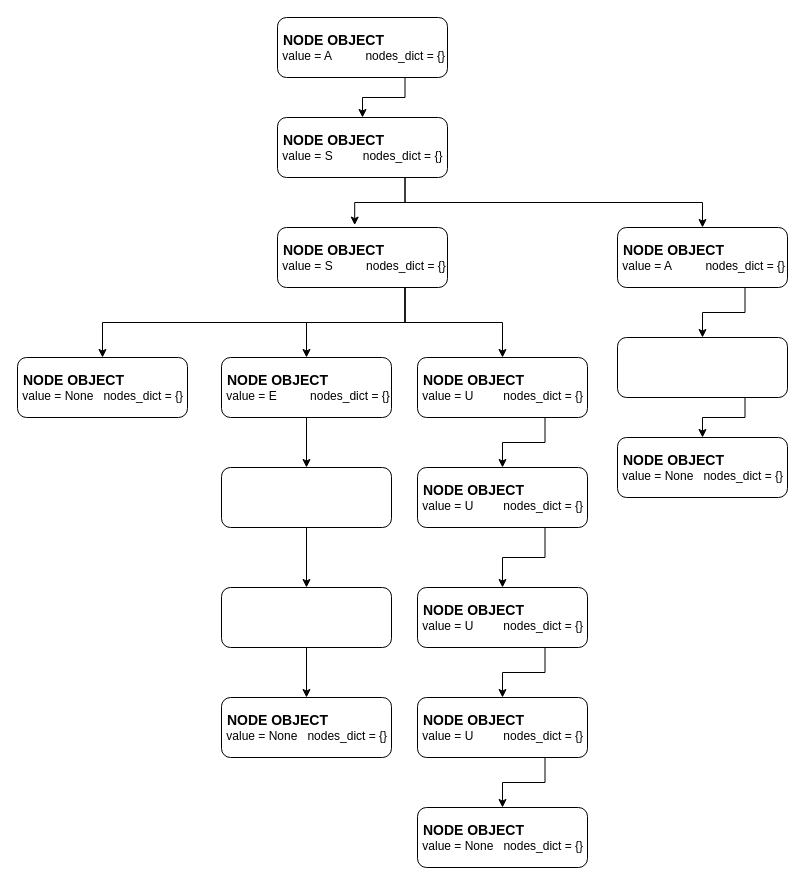
This 805x885 diagram has some shape labels left out. Here are the shapes that lost their labels. From the top down, the box of each, then its label:
(616, 336, 788, 398): NODE OBJECT value = P nodes_dict = {}
(220, 466, 392, 528): NODE OBJECT value = R nodes_dict = {}
(220, 586, 392, 648): NODE OBJECT value = T nodes_dict = {}
